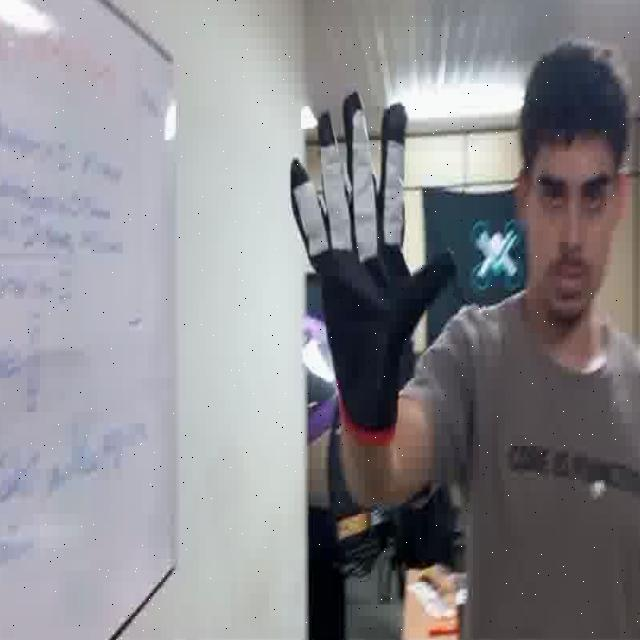Gloves: (284, 86, 462, 435)
